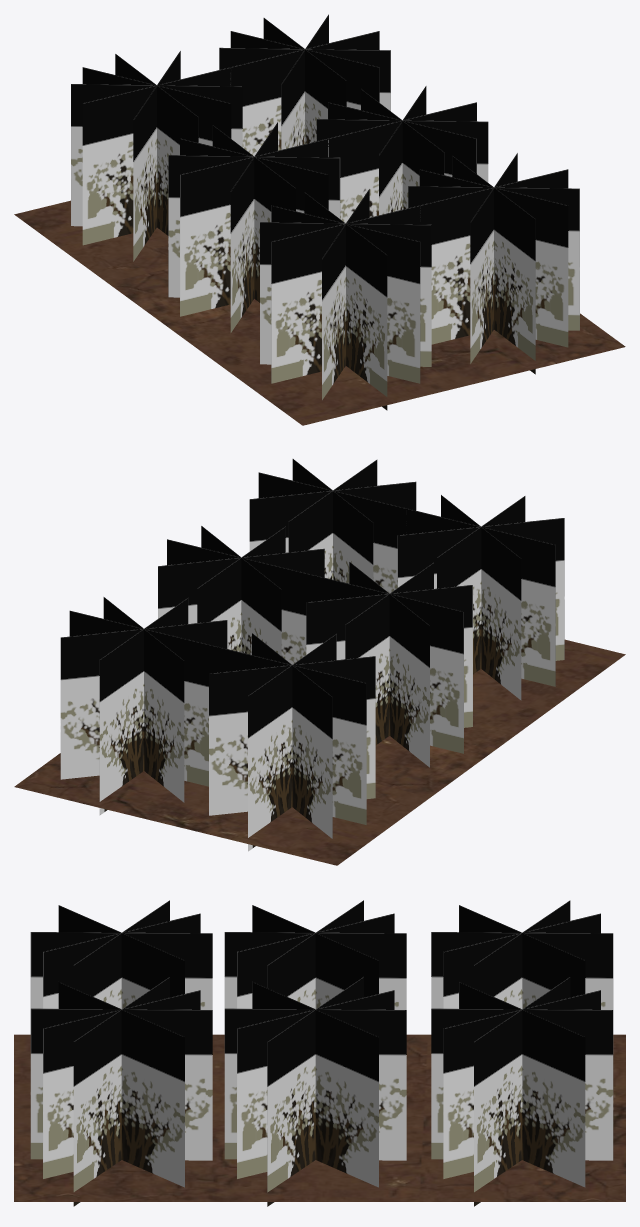
File: FRM0110011.fbx
3 renders of one model, top to bottom at view 1: azimuth 30°, elevation 25°; view 2: azimuth 150°, elevation 25°; view 3: azimuth 270°, elevation 25°, orthographic. The views are drawn at different scales.
Parts seen in each view (by area): view 1: smFRM0110011; view 2: smFRM0110011; view 3: smFRM0110011.
Boxes of the visible parts, x1,y1,x2,y2 form: smFRM0110011: (14,14,625,425); smFRM0110011: (14,459,625,865); smFRM0110011: (14,900,625,1206).
Size of the model in its own units: 101 by 46.32 by 156.
Materials: 1 (1 with a texture image).
